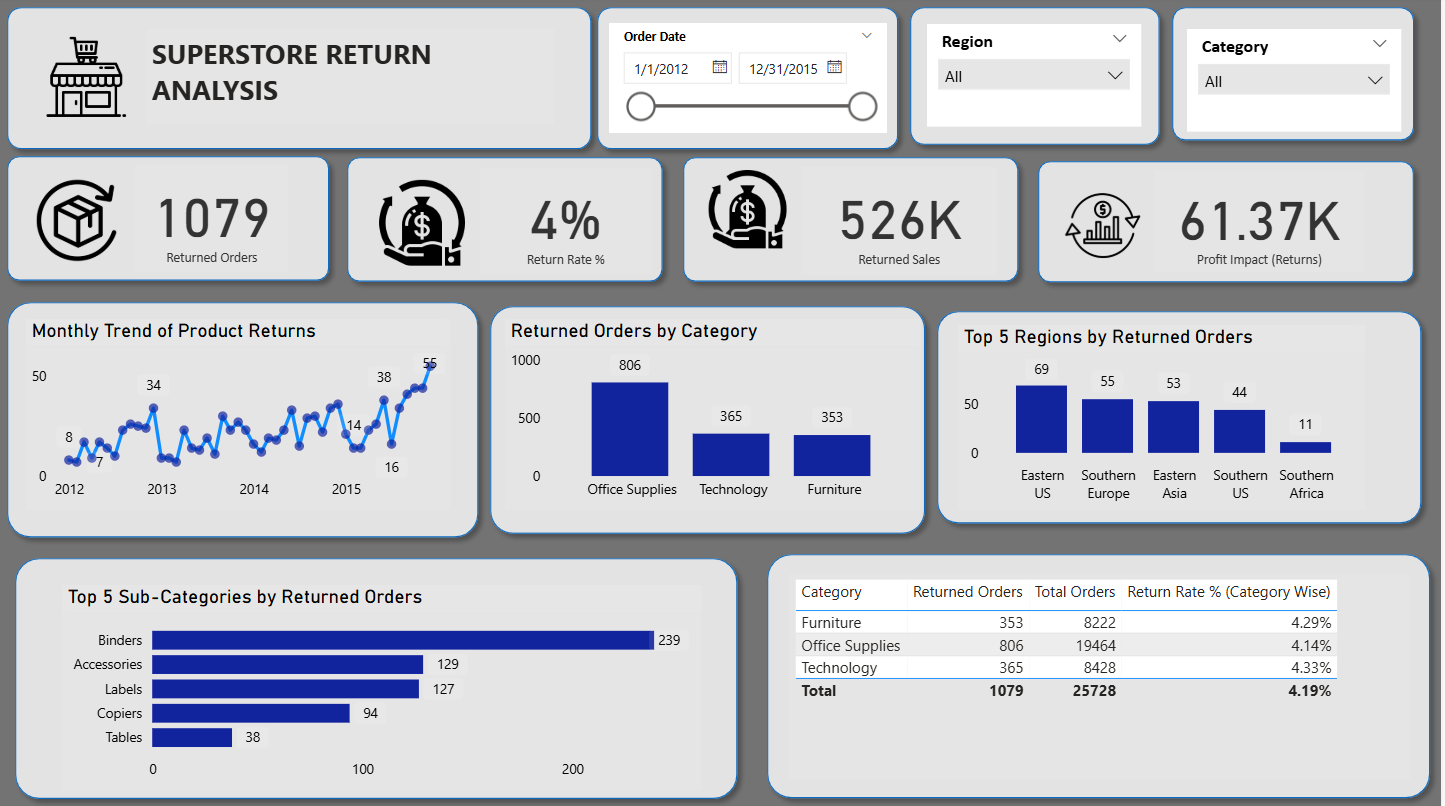

The dashboard page shown, as its layout file describes it:
{"tool":"powerbi","page":{"name":"Return Analysis","canvas":[1280,720],"ordinal":1},"visuals":[{"type":"shape","box":[0,0,535.9,144],"z":0},{"type":"image","box":[25.3,29.2,107,82.7],"z":1000},{"type":"textbox","box":[132.3,28.2,361.8,83.6],"z":2000},{"type":"shape","box":[914.3,136.2,351.1,125.5],"z":3000},{"type":"shape","box":[800.5,0,239.3,140.1],"z":4000},{"type":"shape","box":[523.3,0,285,144],"z":5000},{"type":"slicer","fields":{"Values":["Order Table.Region"]},"box":[824.8,24.3,189.7,91.4],"z":6000},{"type":"slicer","fields":{"Values":["Order Table.Category"]},"box":[1055.3,38.9,187.7,72.9],"z":7000},{"type":"slicer","fields":{"Values":["Order Table.Order Date"]},"box":[542.7,23.3,246.1,97.3],"z":8000},{"type":"shape","box":[1032.9,0,232.5,136.2],"z":9000},{"type":"slicer","fields":{"Values":["Order Table.Category"]},"box":[1055.3,28.2,189.7,91.4],"z":10000},{"type":"shape","box":[0,132.3,303.5,128.4],"z":11000},{"type":"shape","box":[301.5,133.3,297.6,128.4],"z":12000},{"type":"shape","box":[599.1,133.3,315.1,128.4],"z":13000},{"type":"shape","box":[0,261.6,435.7,226.6],"z":14000},{"type":"shape","box":[824.8,269.4,447.4,206.2],"z":15000},{"type":"shape","box":[428,265.5,403.6,219.8],"z":16000},{"type":"shape","box":[6.8,488.3,658.5,231.5],"z":17000},{"type":"card","fields":{"Values":["Order Table.Returned Orders"]},"box":[122.6,148.8,136.2,96.3],"z":18000},{"type":"image","box":[25.3,150.8,87.5,93.4],"z":19000},{"type":"image","box":[325.8,151.7,102.1,97.3],"z":20000},{"type":"card","fields":{"Values":["Order Table.Returned Sales"]},"box":[712.9,150.8,174.1,96.3],"z":21000},{"type":"image","box":[617.6,144,95.3,88.5],"z":22000},{"type":"card","fields":{"Values":["Order Table.Return Profit Loss"]},"box":[1026.1,154.7,186.7,90.5],"z":23000},{"type":"image","box":[935.7,158.5,90.5,87.5],"z":24000},{"type":"lineChart","title":"Monthly Trend of Product Returns","fields":{"Category":["Date Table.Date.Variation.Date Hierarchy.Year","Date Table.Date.Variation.Date Hierarchy.Month"],"Y":["Order Table.Returned Orders"]},"box":[25.3,286,376.4,169.2],"z":25000},{"type":"card","fields":{"Values":["Order Table.Return Rate %"]},"box":[428,151.7,151.7,94.3],"z":26000},{"type":"columnChart","title":"Returned Orders by Category","fields":{"Category":["Order Table.Category"],"Y":["Order Table.Returned Orders"]},"box":[450.3,286,368.6,169.2],"z":27000},{"type":"clusteredColumnChart","title":"Top 5 Regions by Returned Orders","fields":{"Category":["Order Table.Region"],"Y":["Order Table.Returned Orders"]},"box":[852,290.8,360.9,164.4],"z":28000},{"type":"clusteredBarChart","title":"Top 5 Sub-Categories by Returned Orders","fields":{"Category":["Order Table.Sub Category"],"Y":["Order Table.Returned Orders"]},"box":[57.4,521.3,567.1,181.9],"z":29000},{"type":"shape","box":[674,485.3,606,234.4],"z":30000},{"type":"tableEx","fields":{"Values":["Order Table.Category","Order Table.Returned Orders","Order Table.Total Orders","Order Table.Return Rate % (Category Wise)"]},"box":[702.2,511.6,551.5,181.9],"z":31000}]}

Visuals, with their boxes in screenshot pixels (x1, y1, x2, y2), scaled from the page's 1280x720 canvas onto the 1445x806 screenshot:
shape: box=[0, 0, 605, 161]
image: box=[29, 33, 149, 125]
textbox: box=[149, 32, 558, 125]
shape: box=[1032, 152, 1429, 293]
shape: box=[904, 0, 1174, 157]
shape: box=[591, 0, 912, 161]
slicer - Order Table.Region: box=[931, 27, 1145, 130]
slicer - Order Table.Category: box=[1191, 44, 1403, 125]
slicer - Order Table.Order Date: box=[613, 26, 890, 135]
shape: box=[1166, 0, 1429, 152]
slicer - Order Table.Category: box=[1191, 32, 1405, 134]
shape: box=[0, 148, 343, 292]
shape: box=[340, 149, 676, 293]
shape: box=[676, 149, 1032, 293]
shape: box=[0, 293, 492, 547]
shape: box=[931, 302, 1436, 532]
shape: box=[483, 297, 939, 543]
shape: box=[8, 547, 751, 805]
card - Order Table.Returned Orders: box=[138, 167, 292, 274]
image: box=[29, 169, 127, 273]
image: box=[368, 170, 483, 279]
card - Order Table.Returned Sales: box=[805, 169, 1001, 277]
image: box=[697, 161, 805, 260]
card - Order Table.Return Profit Loss: box=[1158, 173, 1369, 274]
image: box=[1056, 177, 1158, 275]
"Monthly Trend of Product Returns" lineChart: box=[29, 320, 453, 510]
card - Order Table.Return Rate %: box=[483, 170, 654, 275]
"Returned Orders by Category" columnChart: box=[508, 320, 924, 510]
"Top 5 Regions by Returned Orders" clusteredColumnChart: box=[962, 326, 1369, 510]
"Top 5 Sub-Categories by Returned Orders" clusteredBarChart: box=[65, 584, 705, 787]
shape: box=[761, 543, 1444, 805]
tableEx - Order Table.Category x Order Table.Returned Orders: box=[793, 573, 1415, 776]
